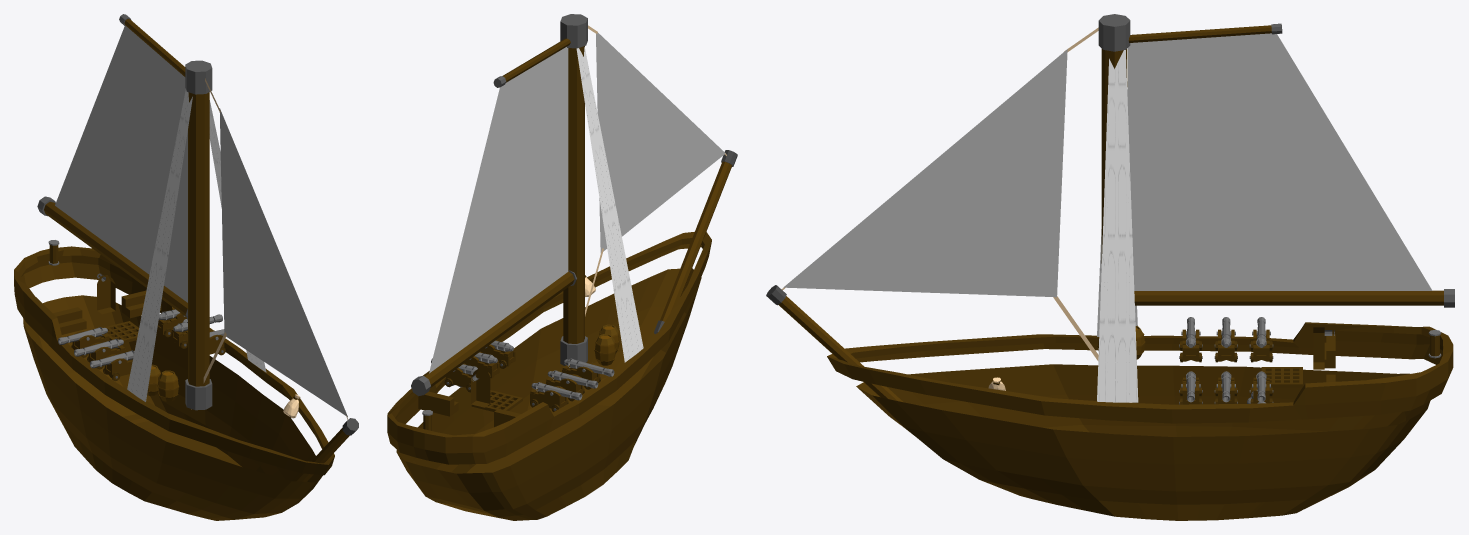
Rendered from Sloop_Mod.fbx.
The picture shows the model from 3 angles, left to right: view 1: azimuth 30°, elevation 25°; view 2: azimuth 150°, elevation 25°; view 3: azimuth 270°, elevation 25°; orthographic projection. The views are drawn at different scales.
Visible parts, largest first — view 1: Plane.003, Plane.005, Plane.002, Cylinder, Plane.036, Plane.035; view 2: Plane.003, Plane.005, Plane.002, Cylinder, Plane.036; view 3: Plane.003, Plane.005, Plane.002, Cylinder, Plane.035.
Boxes of the visible parts, x1,y1,x2,y2 form: Plane.003: [14, 240, 334, 520]; Plane.005: [55, 26, 187, 302]; Plane.002: [219, 108, 347, 416]; Cylinder: [37, 14, 358, 481]; Plane.036: [127, 89, 192, 401]; Plane.035: [209, 100, 266, 372]; Plane.003: [387, 232, 711, 520]; Plane.005: [429, 47, 568, 373]; Plane.002: [596, 32, 725, 253]; Cylinder: [411, 14, 737, 396]; Plane.036: [576, 47, 643, 362]; Plane.003: [827, 317, 1453, 520]; Plane.005: [1128, 33, 1432, 290]; Plane.002: [783, 49, 1067, 297]; Cylinder: [766, 14, 1454, 402]; Plane.035: [1097, 50, 1138, 402].
Bounding box in the file's own units: 1287 × 3571 × 4750.
